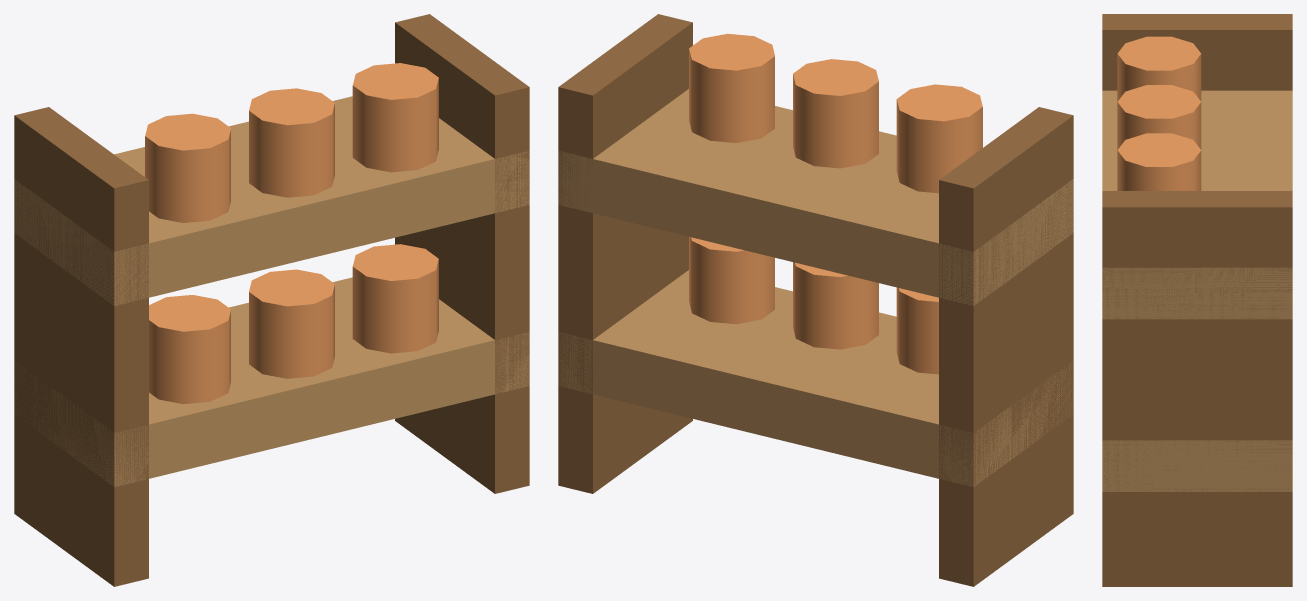
The model's file is spice_rack.glb.
3 views of the same model, side by side, from view 1: azimuth 30°, elevation 25°; view 2: azimuth 150°, elevation 25°; view 3: azimuth 270°, elevation 25° (orthographic). The views are drawn at different scales.
Visible parts, largest first — view 1: spice_rack; view 2: spice_rack; view 3: spice_rack.
Boxes of the visible parts, box(x1,y1,x2,y2) form: spice_rack: box(14, 14, 529, 586); spice_rack: box(558, 14, 1073, 586); spice_rack: box(1102, 14, 1292, 586).
Bounding box in the file's own units: 24 × 22.5 × 10.
